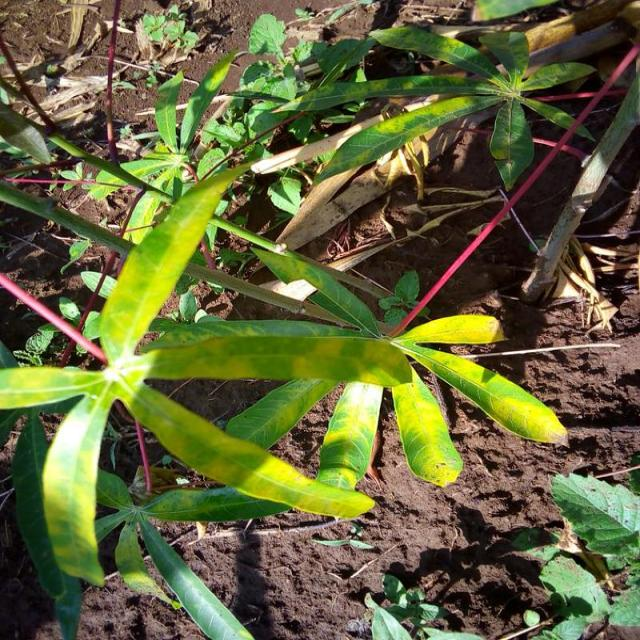cassava leaf: (2, 21, 574, 637)
